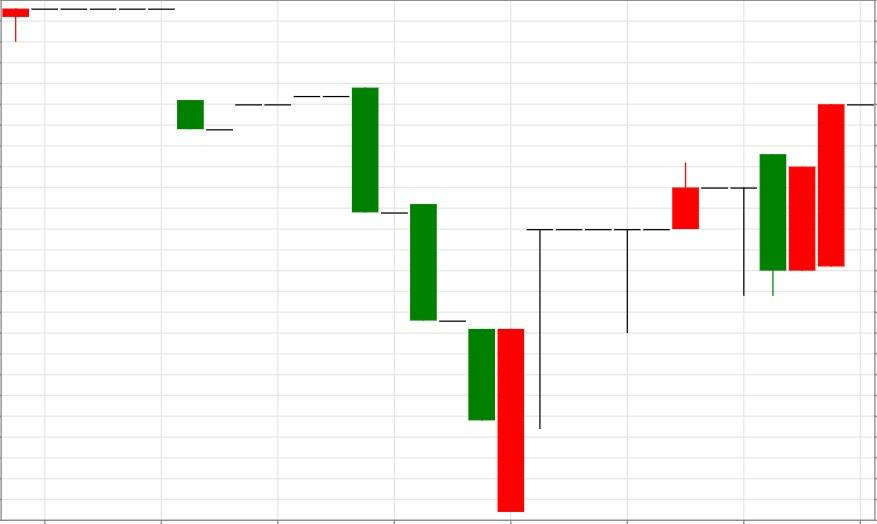bullish_engulfing_rise: (351, 87, 524, 513)
